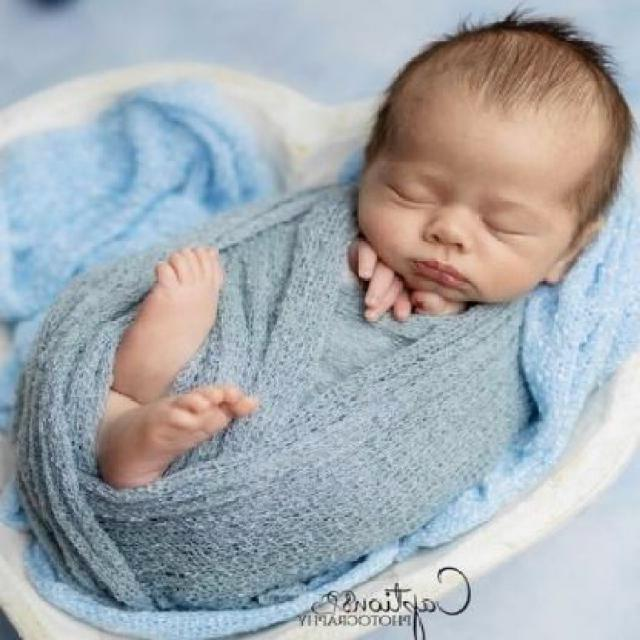child: (26, 19, 637, 619)
